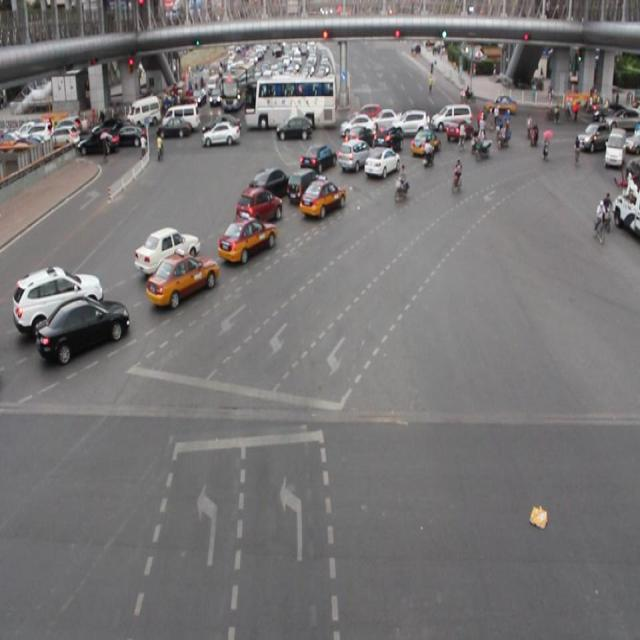car: (36, 295, 130, 362), (14, 265, 103, 332), (146, 252, 220, 302), (134, 225, 201, 280), (218, 216, 276, 260), (298, 177, 347, 220), (234, 184, 282, 227), (286, 165, 327, 204), (250, 166, 290, 200), (364, 144, 400, 178), (298, 142, 336, 174), (338, 140, 372, 172), (409, 125, 440, 159), (374, 124, 403, 156), (344, 124, 374, 150)
